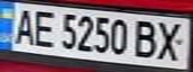0: (109, 16, 133, 56)
2: (72, 12, 96, 53)
5: (54, 10, 78, 51), (90, 15, 112, 55)
A: (9, 6, 39, 46)
B: (130, 17, 163, 60)
E: (30, 7, 60, 48)
X: (151, 18, 190, 62)
